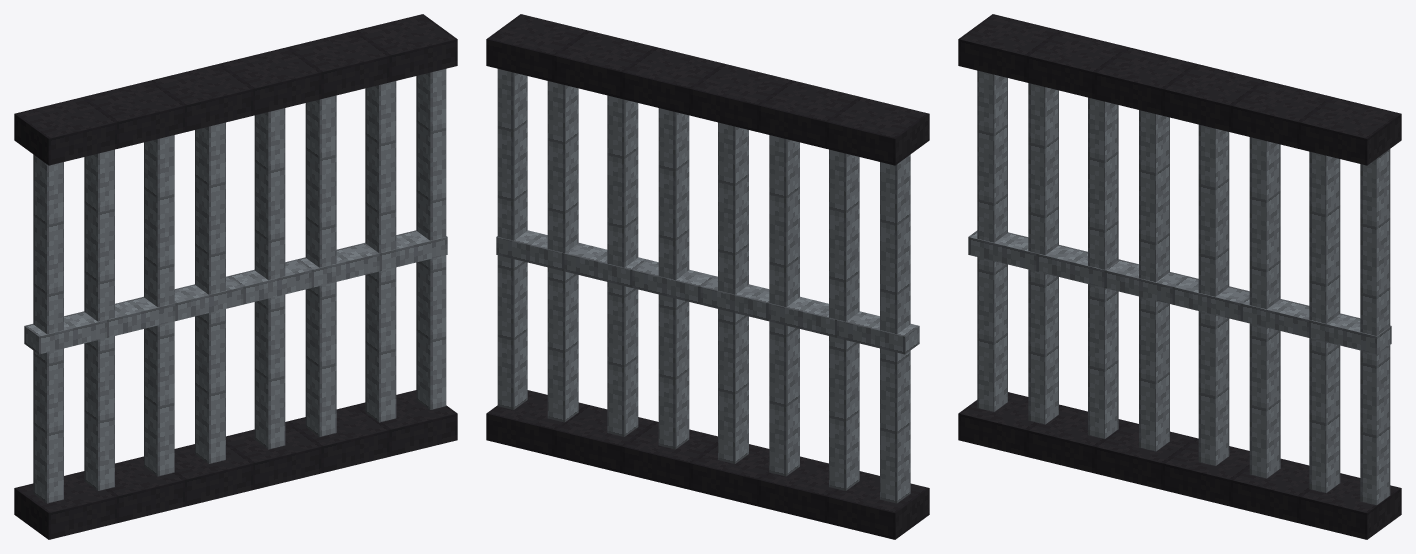
The model's file is prisonCellGate.glb.
3 renders of one model, left to right at view 1: azimuth 30°, elevation 25°; view 2: azimuth 150°, elevation 25°; view 3: azimuth 330°, elevation 25°, orthographic.
Parts seen in each view (by area): view 1: prisonCellGate_0; view 2: prisonCellGate_0; view 3: prisonCellGate_0.
Part boxes in pixels (left/top/right/bottom): prisonCellGate_0: left=14, top=14, right=457, bottom=539; prisonCellGate_0: left=486, top=14, right=929, bottom=539; prisonCellGate_0: left=958, top=14, right=1401, bottom=539.
Size of the model in its own units: 3 by 2.81 by 0.4375.
Materials: 1 (1 with a texture image).
